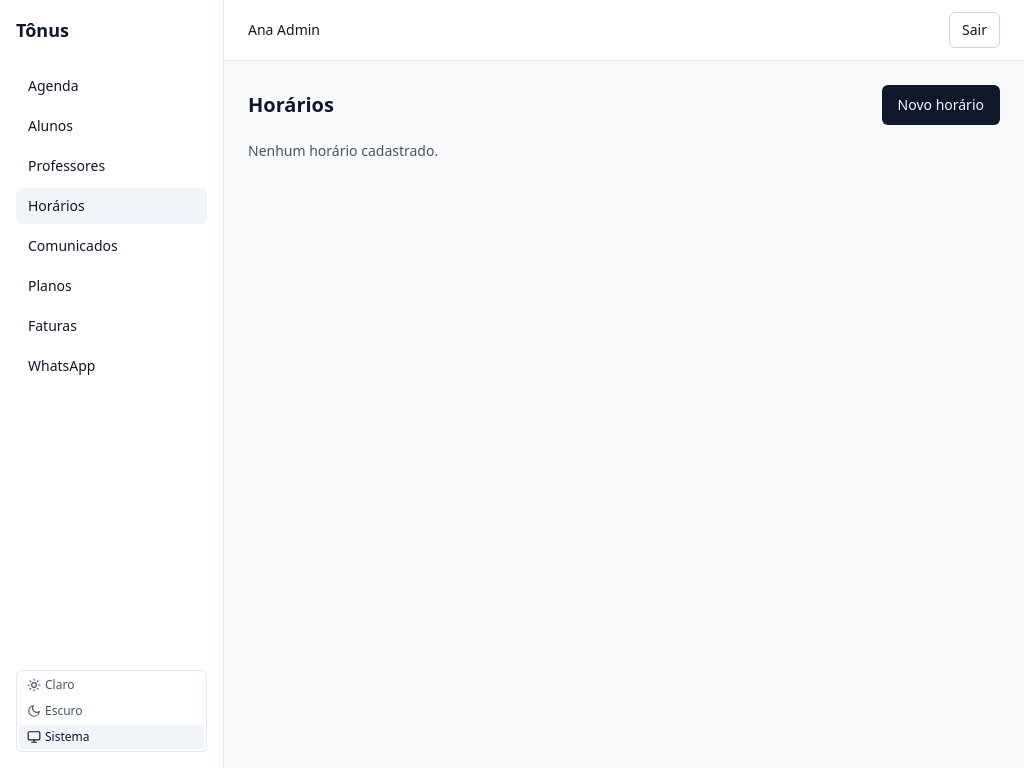
Test case: edição de horário padrão › explica o 409 com a mensagem do back e refaz a lista
The width and height of the screenshot is (1024, 768).
Click the button "Novo horário" at [941, 105], box [882, 85, 1000, 125]
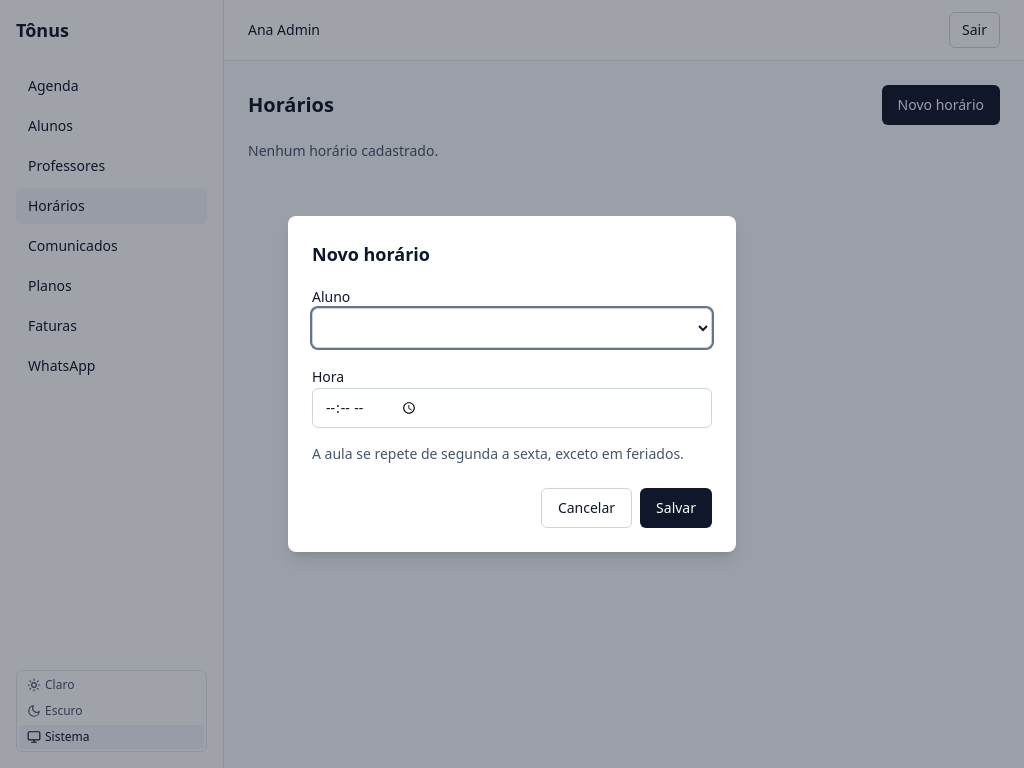
Select "Ana Alves" in the dropdown labelled "Aluno" at [512, 328], box [312, 308, 712, 348]
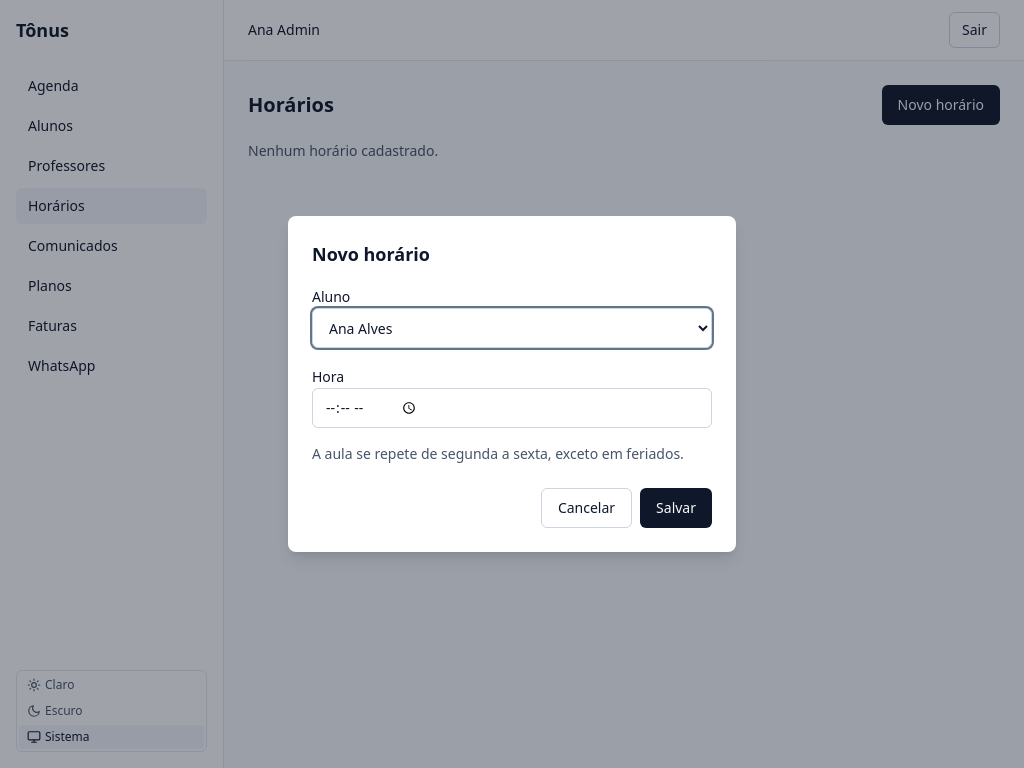
Type "07:00" into the time field labelled "Hora" at [512, 408], box [312, 388, 712, 428]
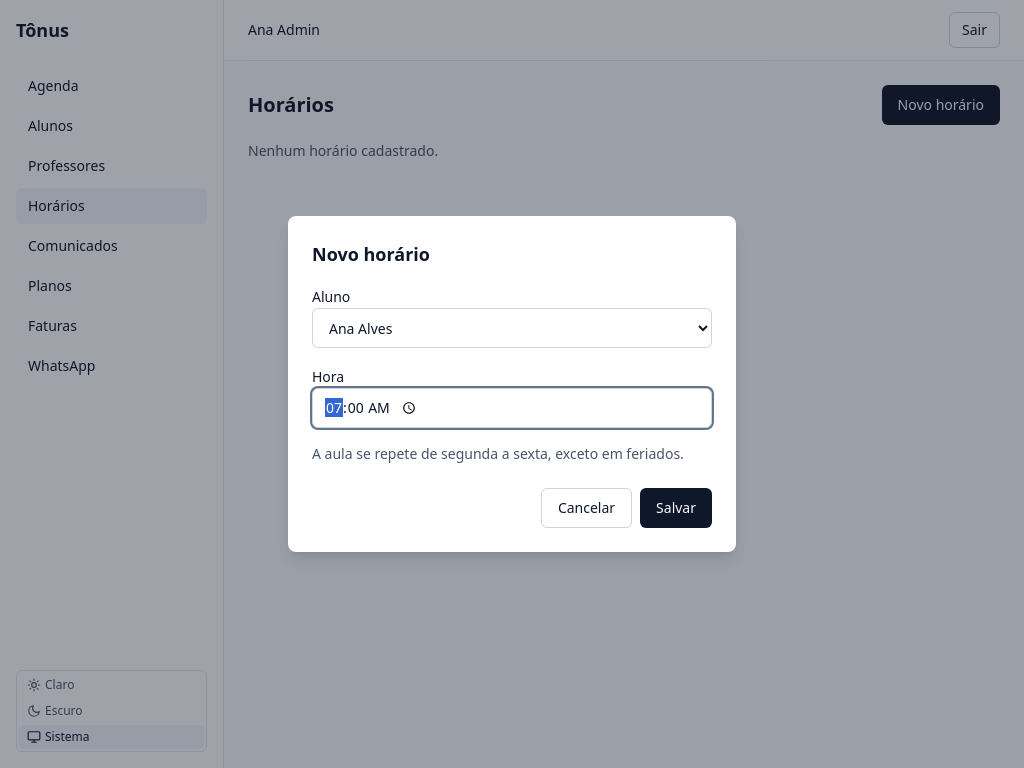
Click the button "Salvar" at [676, 508], box [640, 488, 712, 528]
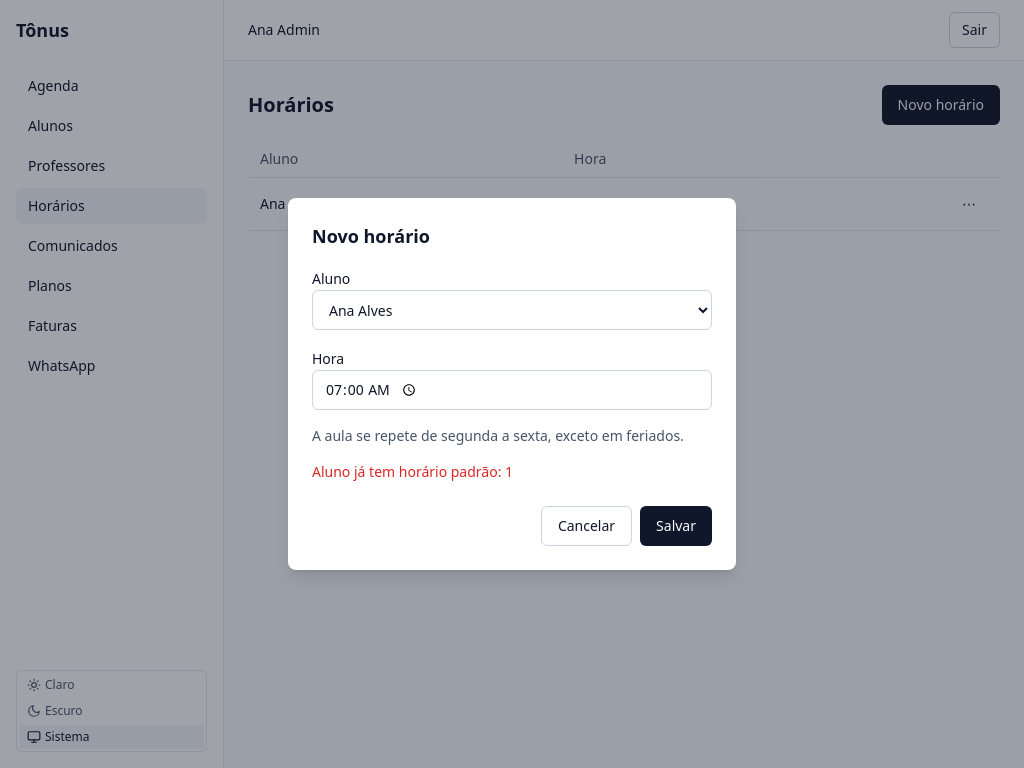
Check: the text "Aluno já tem horário padrão: 1" is shown, box [312, 462, 513, 481]
Check: the row "Ana Alves 07:00 ⋯" is shown, box [248, 178, 1000, 230]
